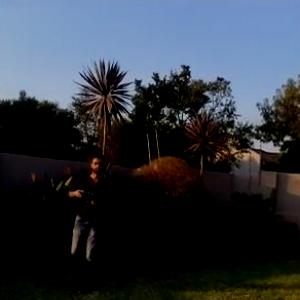follow: (49, 152, 108, 299)
